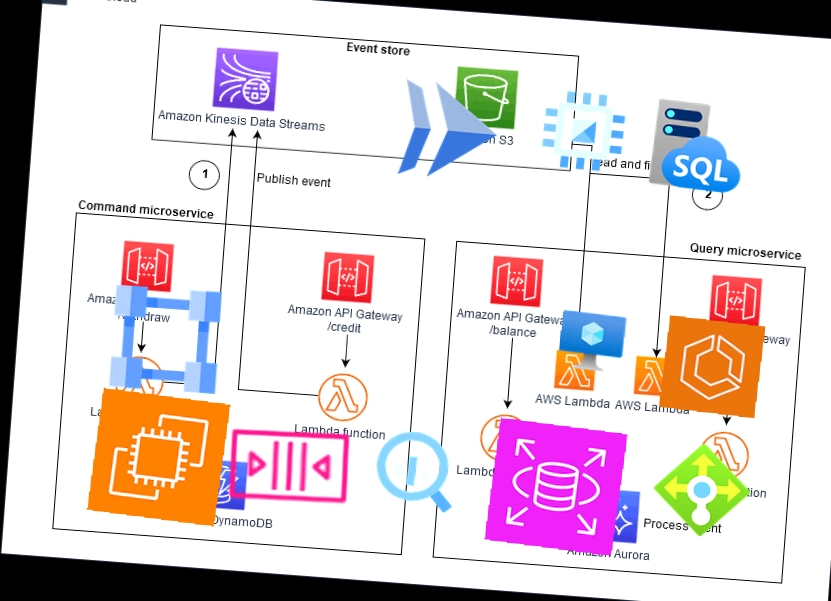aws_amazon_ec2: (86, 387, 231, 527)
aws_amazon_elastic_container_service: (657, 314, 766, 419)
aws_amazon_rds: (483, 416, 628, 556)
aws_simple_queue_service_queue: (218, 396, 359, 533)
azure_load_balancers: (648, 438, 755, 541)
azure_sql_managed_instance: (644, 93, 753, 198)
azure_virtual_machine: (555, 308, 628, 378)
gcp_bigquery: (361, 418, 470, 523)
gcp_cloud_run: (377, 62, 517, 198)
gcp_compute_engine: (530, 79, 636, 182)
gcp_virtual_private_cloud: (96, 272, 234, 406)
